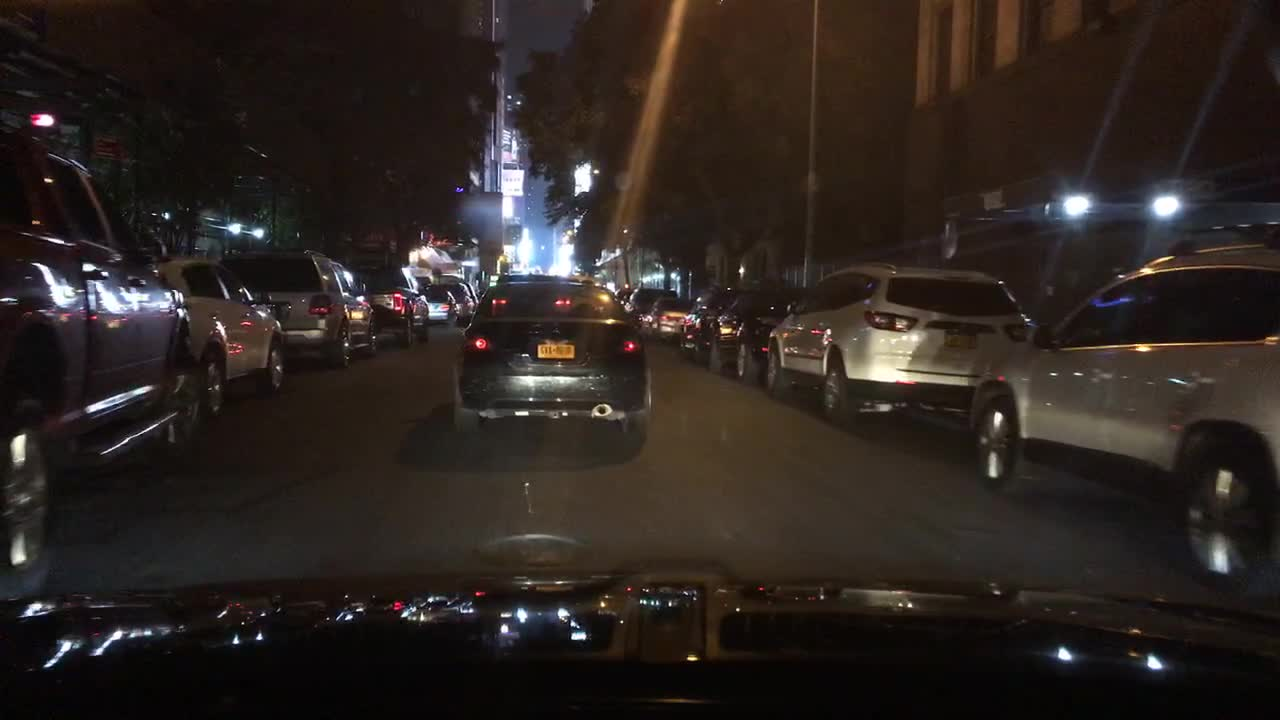car: (965, 221, 1279, 592), (761, 258, 1038, 432), (447, 273, 651, 445), (148, 256, 288, 422), (219, 246, 374, 366), (707, 280, 800, 385), (361, 261, 432, 347), (675, 278, 735, 368), (636, 293, 693, 346), (624, 287, 676, 327), (422, 282, 460, 327), (447, 280, 474, 327), (464, 282, 481, 304), (617, 287, 631, 304)
truck: (0, 120, 211, 597)
